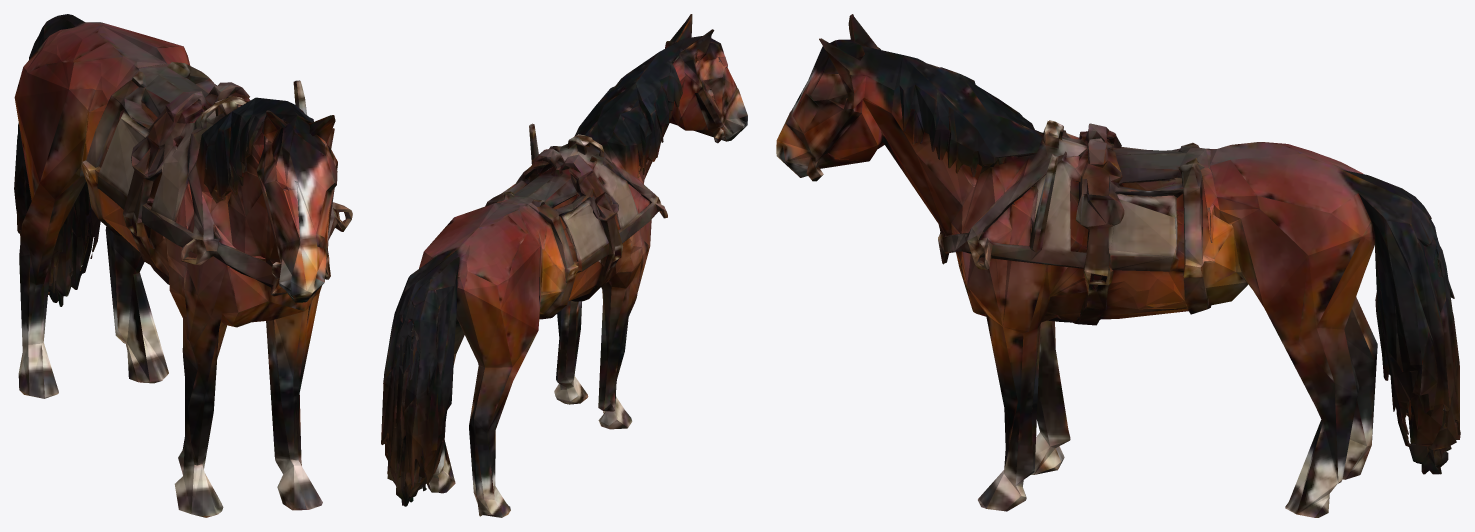
File: horse.glb
3 views of the same model, side by side, from view 1: azimuth 30°, elevation 25°; view 2: azimuth 150°, elevation 25°; view 3: azimuth 270°, elevation 25° (orthographic). The views are drawn at different scales.
Visible parts, largest first — view 1: geometry_0; view 2: geometry_0; view 3: geometry_0.
Part boxes in pixels (x1,y1,x2,y2): geometry_0: (14,14,352,517); geometry_0: (381,14,747,517); geometry_0: (776,14,1460,517).
Bounding box in the file's own units: 0.2672 × 0.7127 × 0.9994.
Materials: 1 (1 with a texture image).
